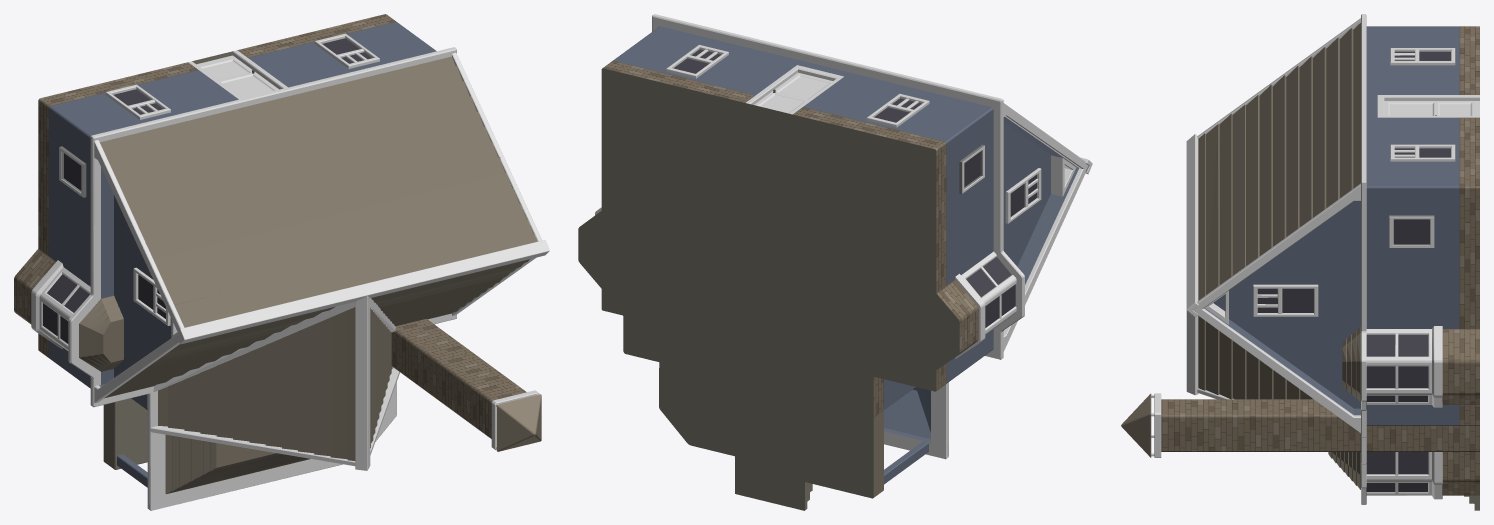
File: Residential House.obj
3 views of the same model, side by side, from view 1: azimuth 30°, elevation 25°; view 2: azimuth 150°, elevation 25°; view 3: azimuth 270°, elevation 25° (orthographic). The views are drawn at different scales.
Visible parts, largest first — view 1: Object.1; view 2: Object.1; view 3: Object.1.
Part boxes in pixels (x1,y1,x2,y2): Object.1: (14, 14, 549, 510); Object.1: (578, 14, 1092, 510); Object.1: (1121, 14, 1479, 510).
Size of the model in its own units: 2514 by 2461 by 2017.
Materials: 1 (1 with a texture image).
